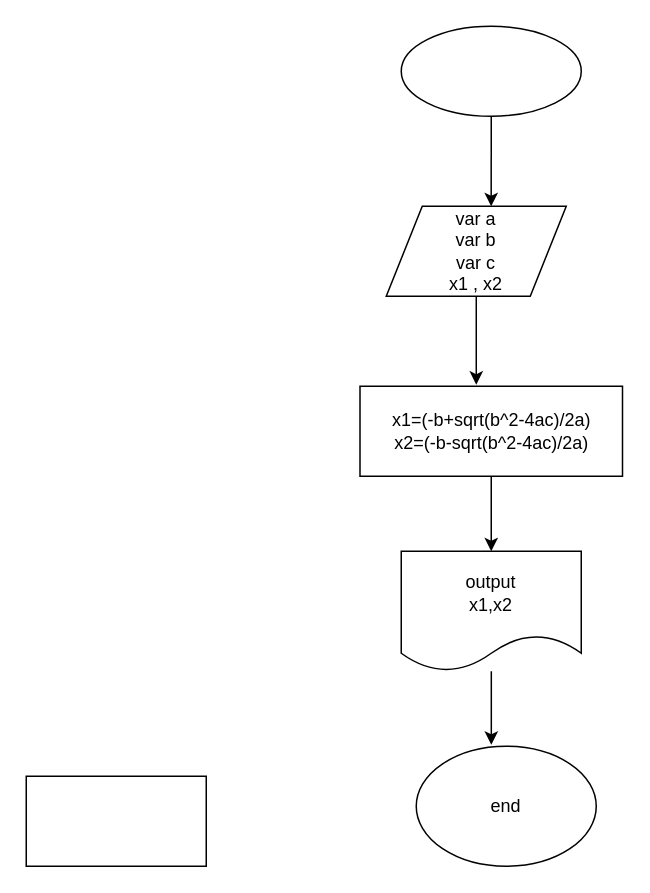
Image size: 650x893. Some labels were removed from this diagram. Each missing label, with the centre of its shape:
"ax^2+bx+c" belongs at (115,820).
"start" belongs at (490,70).
